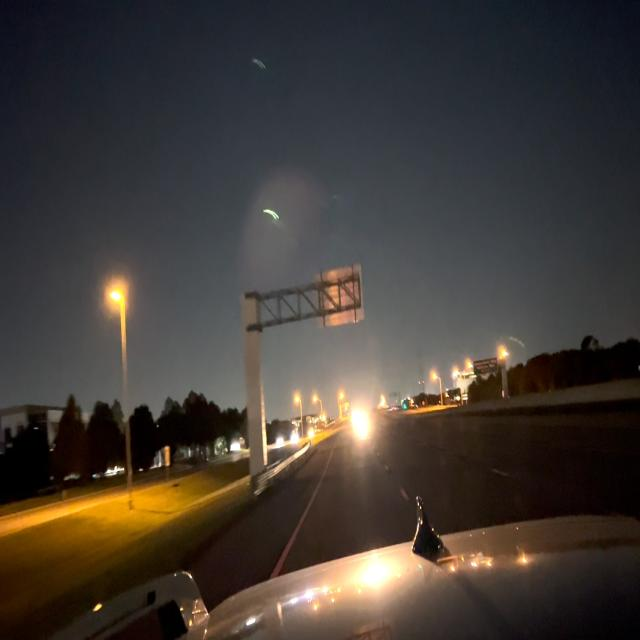back-of-sign: (320, 265, 365, 328)
